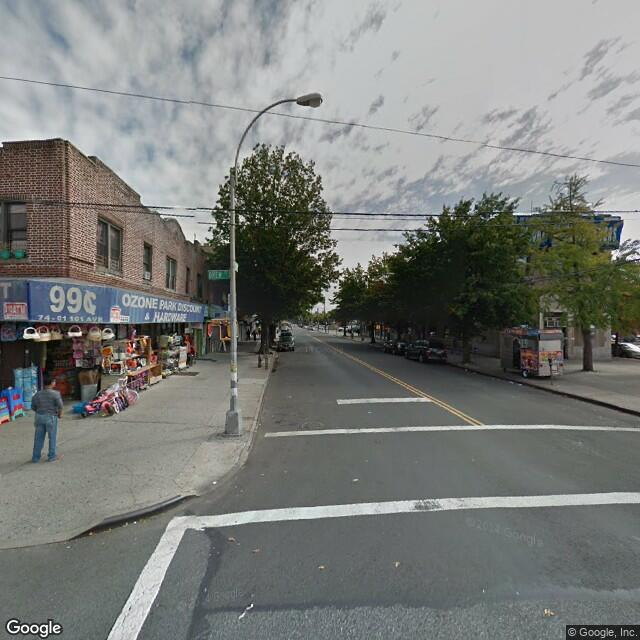litter: (504, 377, 523, 395)
